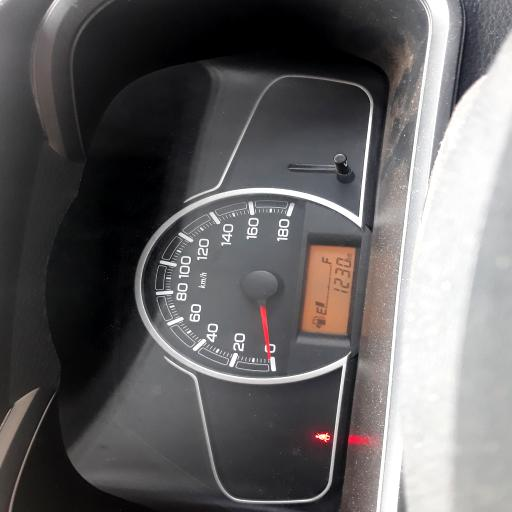belt: (316, 432, 330, 442)
